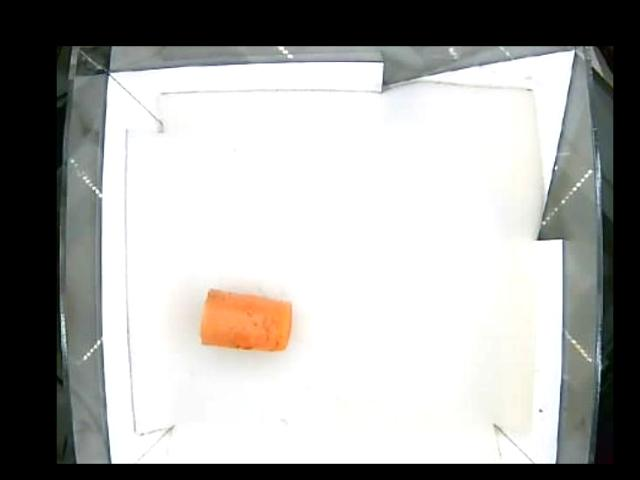Carrot: (198, 287, 292, 349)
